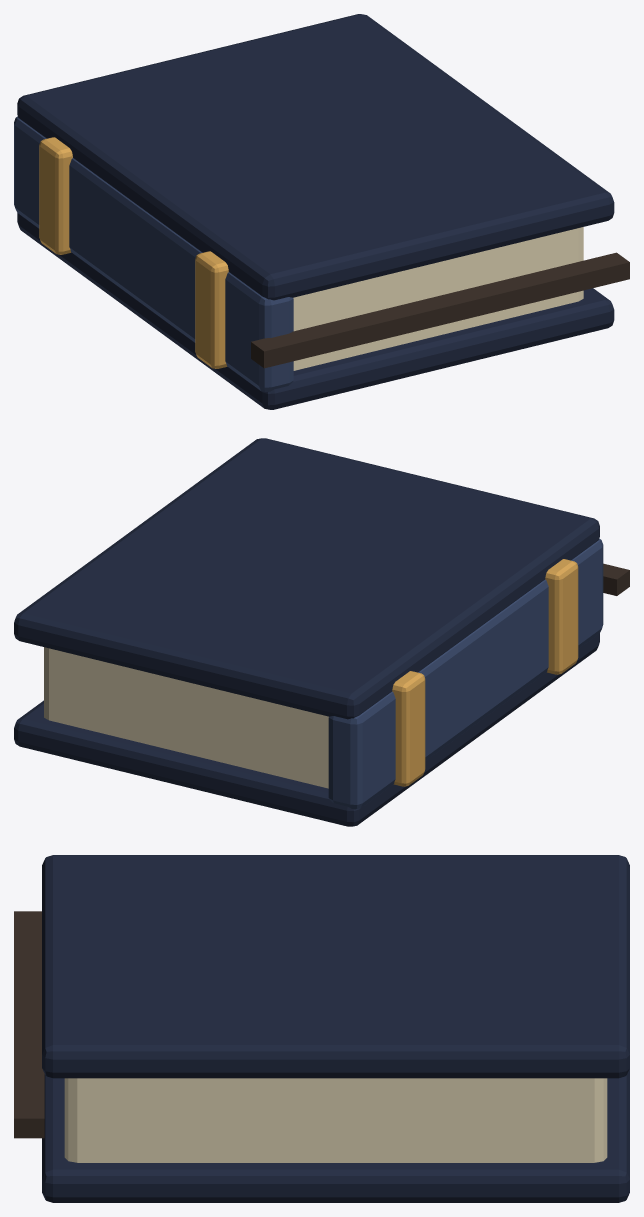
Rendered from kit_book.glb.
3 renders of one model, top to bottom at view 1: azimuth 30°, elevation 25°; view 2: azimuth 150°, elevation 25°; view 3: azimuth 270°, elevation 25°, orthographic. The views are drawn at different scales.
Parts seen in each view (by area): view 1: Blue leather cover.001, Book spine, Blue leather cover, Book pages, Woodland worn prop binding, Gold book clasp.001, Gold book clasp; view 2: Blue leather cover.001, Book pages, Book spine, Blue leather cover, Gold book clasp.001, Gold book clasp, Woodland worn prop binding; view 3: Blue leather cover.001, Book pages, Blue leather cover, Woodland worn prop binding.
Boxes of the visible parts, bbox=[...] form: Blue leather cover.001: bbox=[17, 14, 614, 300]; Book spine: bbox=[14, 116, 293, 391]; Blue leather cover: bbox=[17, 213, 614, 409]; Book pages: bbox=[293, 227, 583, 370]; Woodland worn prop binding: bbox=[251, 252, 629, 368]; Gold book clasp.001: bbox=[39, 137, 72, 254]; Gold book clasp: bbox=[195, 251, 228, 368]; Blue leather cover.001: bbox=[14, 438, 599, 719]; Book pages: bbox=[44, 647, 328, 788]; Book spine: bbox=[328, 538, 603, 809]; Blue leather cover: bbox=[14, 633, 599, 826]; Gold book clasp.001: bbox=[392, 671, 425, 786]; Gold book clasp: bbox=[545, 559, 578, 674]; Woodland worn prop binding: bbox=[603, 563, 629, 595]; Blue leather cover.001: bbox=[42, 855, 629, 1078]; Book pages: bbox=[64, 1078, 607, 1162]; Blue leather cover: bbox=[42, 1068, 629, 1202]; Woodland worn prop binding: bbox=[14, 911, 44, 1138].
Size of the model in its own units: 0.271 by 0.096 by 0.3405.
